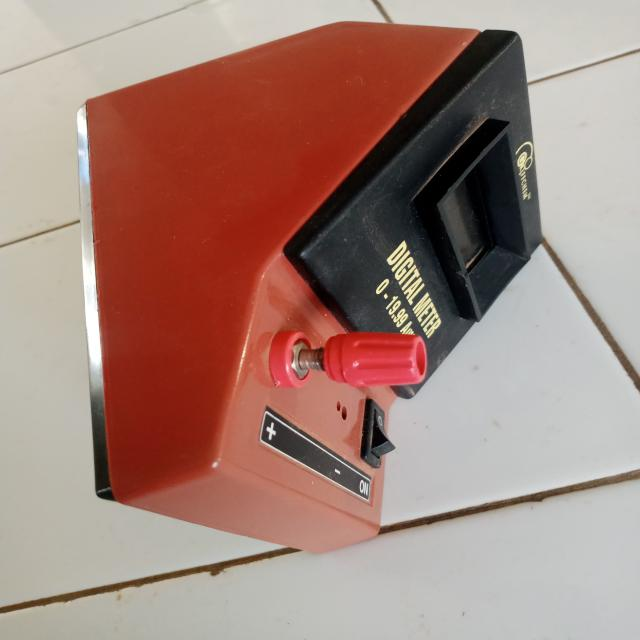Digital Ammeter: (46, 28, 556, 548)
